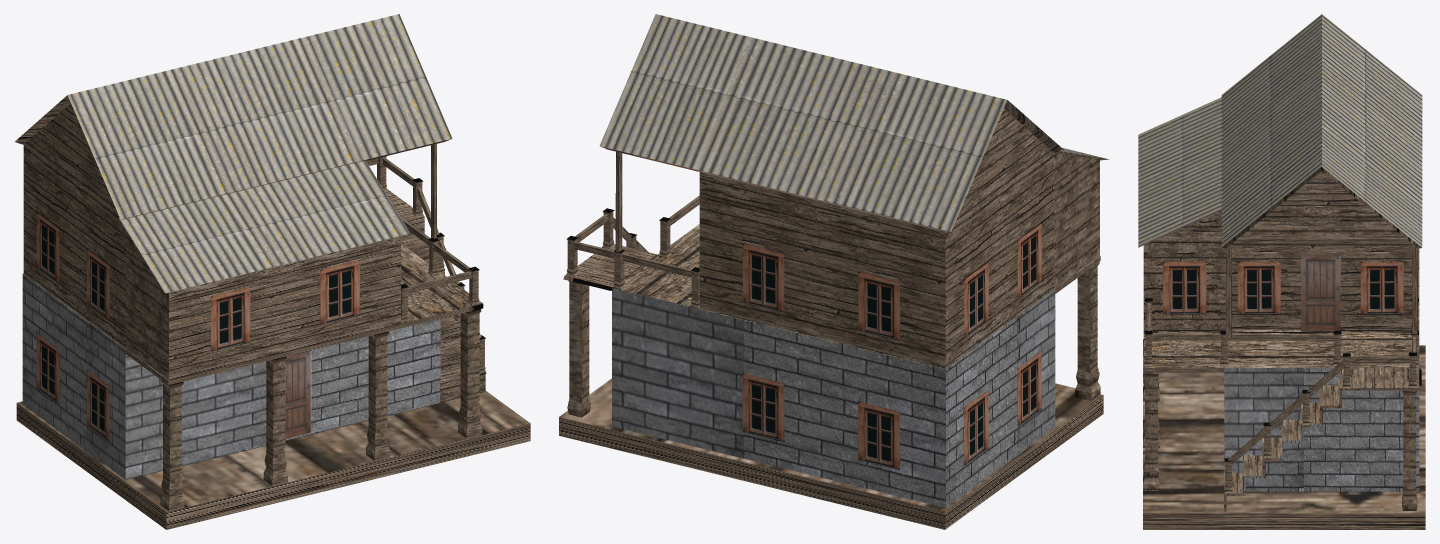
The model's file is house2.fbx.
The picture shows the model from 3 angles, left to right: view 1: azimuth 30°, elevation 25°; view 2: azimuth 150°, elevation 25°; view 3: azimuth 270°, elevation 25°; orthographic projection. The views are drawn at different scales.
Parts seen in each view (by area): view 1: House2; view 2: House2; view 3: House2.
Boxes of the visible parts, box(x1,y1,x2,y2) form: House2: box(15, 14, 530, 529); House2: box(559, 14, 1108, 529); House2: box(1138, 14, 1425, 529).
Bounding box in the file's own units: 385 × 367 × 276.
Materials: 1 (1 with a texture image).
